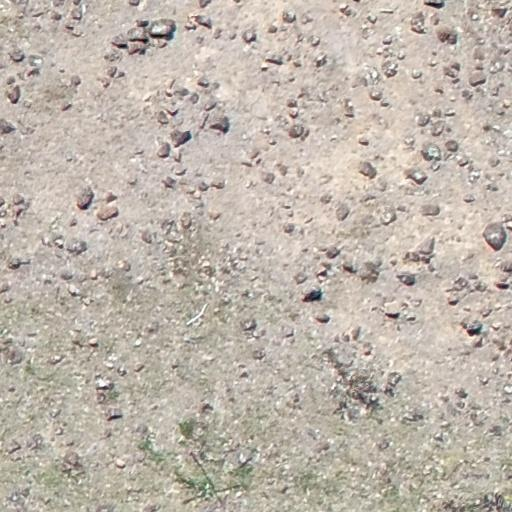stone: (482, 221, 508, 251), (98, 65, 126, 91), (358, 260, 382, 282), (324, 347, 348, 369), (382, 371, 402, 397), (3, 344, 26, 366), (206, 112, 230, 133), (148, 19, 176, 37), (412, 233, 435, 254), (172, 127, 194, 148), (435, 25, 458, 45), (75, 186, 94, 210), (62, 449, 83, 470), (460, 317, 484, 335), (420, 142, 442, 161), (250, 136, 272, 155), (409, 11, 427, 34), (405, 168, 429, 185), (188, 13, 212, 30), (378, 205, 398, 225), (66, 238, 88, 256), (299, 34, 321, 51), (127, 26, 150, 42), (126, 39, 149, 55), (356, 160, 375, 178), (429, 120, 448, 138), (362, 66, 381, 84), (468, 70, 488, 87), (6, 256, 30, 270), (26, 433, 44, 451), (444, 62, 462, 80), (334, 202, 350, 222), (5, 84, 21, 104), (450, 276, 470, 292), (96, 205, 120, 218), (383, 300, 405, 314), (381, 61, 399, 78), (287, 123, 306, 139), (0, 117, 16, 136), (341, 98, 356, 118), (155, 140, 171, 158), (490, 4, 509, 19), (396, 272, 416, 286), (110, 34, 130, 48), (402, 250, 422, 264), (27, 54, 44, 70), (6, 438, 23, 454), (8, 48, 26, 63), (312, 439, 331, 453), (419, 204, 441, 216), (263, 54, 285, 66), (242, 28, 258, 44), (346, 325, 362, 341), (68, 6, 84, 22), (179, 211, 193, 229), (105, 407, 123, 421), (341, 260, 359, 274), (466, 334, 484, 348), (103, 50, 122, 63), (301, 287, 321, 299), (472, 45, 486, 62), (260, 171, 276, 185), (324, 245, 340, 259), (251, 347, 267, 361), (240, 318, 256, 332), (246, 147, 262, 161), (202, 98, 218, 112), (498, 258, 512, 274), (133, 422, 149, 436), (172, 86, 190, 98), (94, 378, 112, 390), (444, 139, 459, 153), (59, 267, 74, 281), (140, 229, 154, 244), (156, 110, 170, 125), (314, 53, 328, 68), (161, 175, 176, 189), (11, 192, 26, 206), (281, 10, 297, 23), (116, 259, 132, 272), (102, 191, 118, 204), (488, 424, 504, 437), (275, 163, 289, 177), (416, 113, 430, 127), (146, 320, 160, 334), (376, 437, 390, 451), (67, 283, 81, 297), (281, 326, 295, 340), (314, 312, 330, 324), (210, 178, 226, 190), (361, 341, 373, 357), (69, 74, 82, 88), (319, 192, 333, 205), (338, 3, 352, 16), (368, 89, 383, 101), (423, 0, 445, 8), (282, 222, 296, 234), (294, 272, 308, 284), (454, 387, 468, 399), (114, 456, 128, 468), (208, 209, 222, 221), (196, 76, 210, 88), (199, 402, 213, 414), (286, 107, 300, 119), (357, 134, 370, 146), (488, 156, 501, 168), (88, 267, 99, 281), (489, 61, 503, 72), (48, 9, 62, 20), (72, 332, 83, 346), (48, 354, 63, 364), (88, 336, 100, 348), (133, 361, 145, 373), (126, 174, 138, 186), (377, 6, 395, 14), (462, 193, 476, 203), (495, 281, 510, 290), (365, 13, 377, 24), (60, 102, 73, 112), (316, 267, 327, 278), (286, 98, 298, 108), (238, 369, 250, 379), (49, 408, 61, 418), (448, 294, 458, 306), (0, 282, 10, 294), (173, 149, 182, 162), (397, 49, 407, 60), (462, 90, 473, 100), (268, 23, 278, 34), (406, 136, 416, 147), (384, 33, 393, 45), (200, 181, 209, 193), (413, 72, 426, 80), (199, 0, 212, 8), (459, 157, 469, 167), (446, 108, 456, 118), (68, 216, 78, 226), (278, 483, 288, 493), (185, 184, 194, 195), (490, 86, 501, 95), (175, 166, 187, 174), (502, 98, 511, 108), (293, 60, 302, 70), (435, 432, 444, 442), (305, 12, 314, 22), (481, 308, 492, 316), (70, 30, 82, 37), (32, 11, 44, 18), (255, 238, 265, 246), (494, 321, 502, 331), (172, 358, 179, 369), (431, 163, 442, 170), (471, 14, 480, 22), (128, 0, 140, 6), (239, 253, 248, 261), (390, 256, 398, 265), (55, 240, 64, 248), (64, 22, 74, 29), (104, 361, 114, 368), (282, 202, 293, 208), (3, 297, 14, 303), (193, 191, 201, 199), (83, 297, 91, 305), (180, 175, 187, 184), (493, 125, 502, 132), (496, 110, 506, 116), (286, 210, 294, 217), (464, 304, 472, 311), (441, 422, 451, 427), (17, 11, 24, 18), (0, 197, 5, 206), (495, 303, 501, 310), (72, 0, 81, 4), (66, 156, 72, 161)
